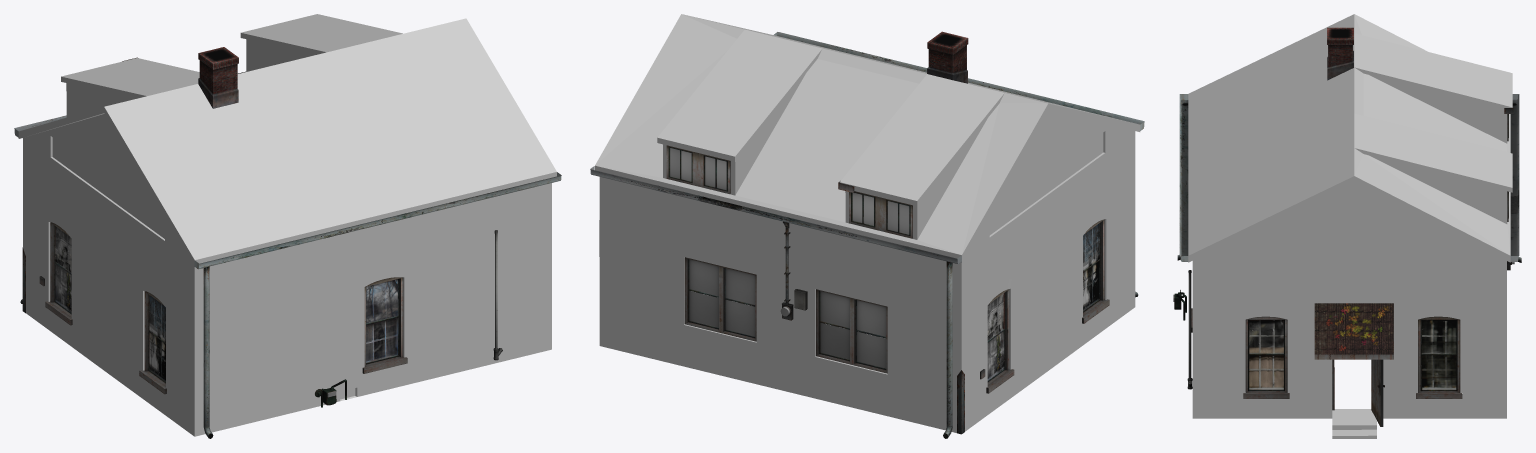
File: 12_National_Street_Exterior.fbx
3 renders of one model, left to right at view 1: azimuth 30°, elevation 25°; view 2: azimuth 150°, elevation 25°; view 3: azimuth 270°, elevation 25°, orthographic. The views are drawn at different scales.
Parts seen in each view (by area): view 1: Exterior, Deco; view 2: Exterior, Deco; view 3: Exterior, Deco, Door.
Part boxes in pixels (x1,y1,x2,y2): Exterior: [18, 14, 556, 436]; Deco: [14, 47, 561, 438]; Exterior: [595, 14, 1140, 432]; Deco: [590, 31, 1144, 438]; Exterior: [1188, 14, 1512, 438]; Deco: [1173, 27, 1521, 410]; Door: [1371, 359, 1383, 426].
Bounding box in the file's own units: 20.71 × 14.55 × 16.83.
